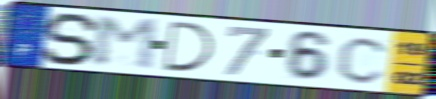6: (282, 30, 336, 83)
7: (223, 24, 272, 77)
C: (335, 35, 392, 86)
D: (162, 19, 217, 74)
M: (91, 15, 160, 72)
S: (38, 11, 105, 67)
